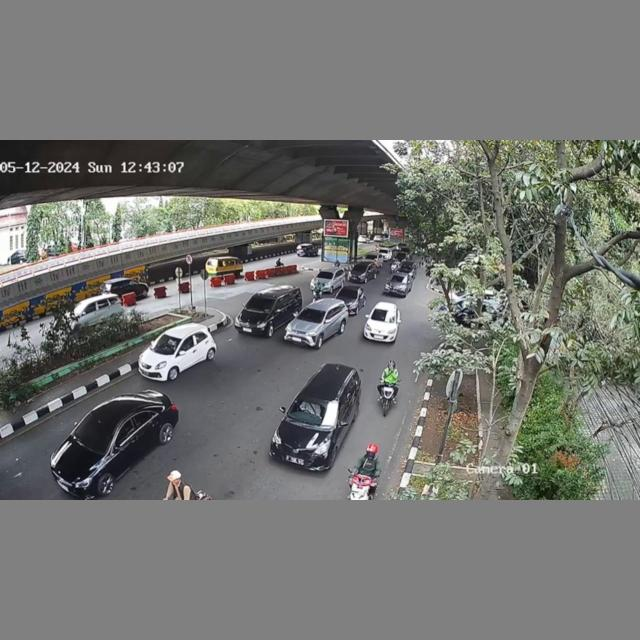windshield: (73, 411, 118, 451), (289, 396, 339, 429), (150, 333, 183, 357), (245, 294, 275, 314), (299, 307, 327, 325), (370, 308, 395, 324)
